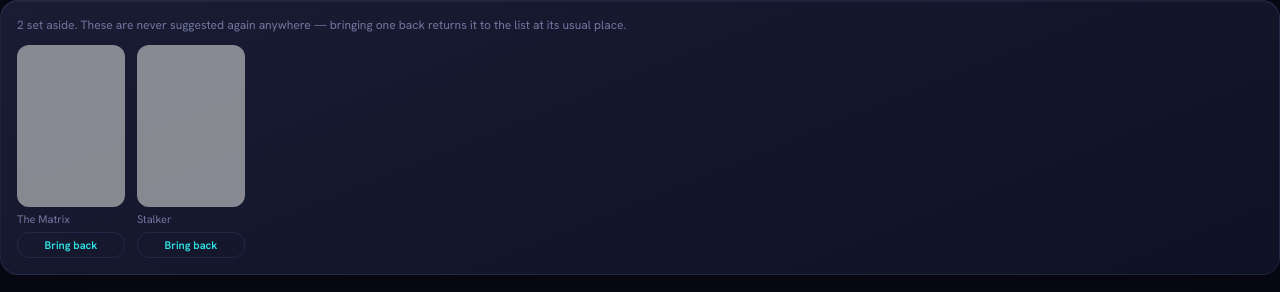
reviewing what you set aside › removes a restored film and tells the list behind it to reload
Click the button with aria-label "suggest The Matrix again".
click(71, 245)  # box [17,232,125,258]
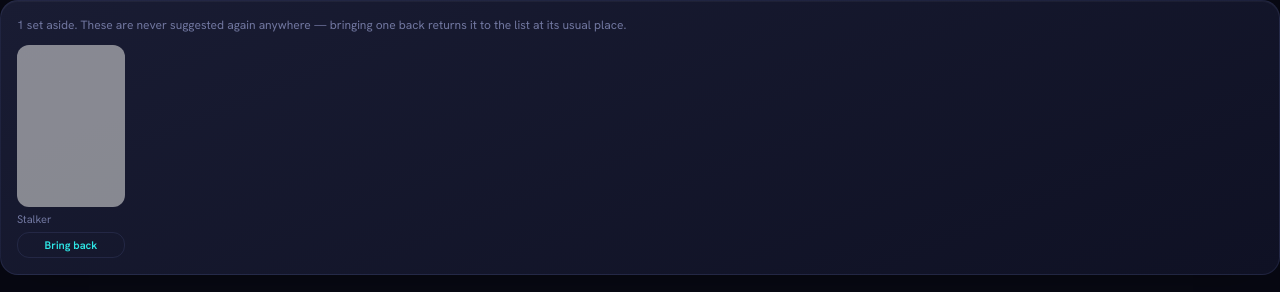
Check: the text "Stalker" is shown, box [17,212,52,226]
Check: the link "The Matrix" is gone
